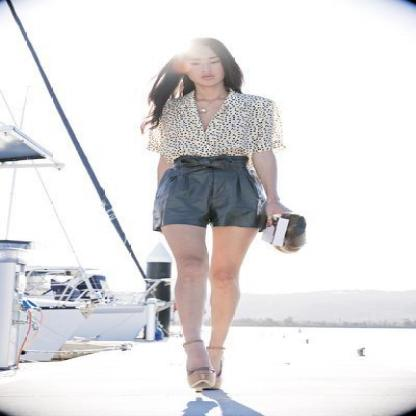bag: (246, 208, 306, 252)
shirt: (149, 91, 286, 161)
shoe: (187, 370, 221, 390)
